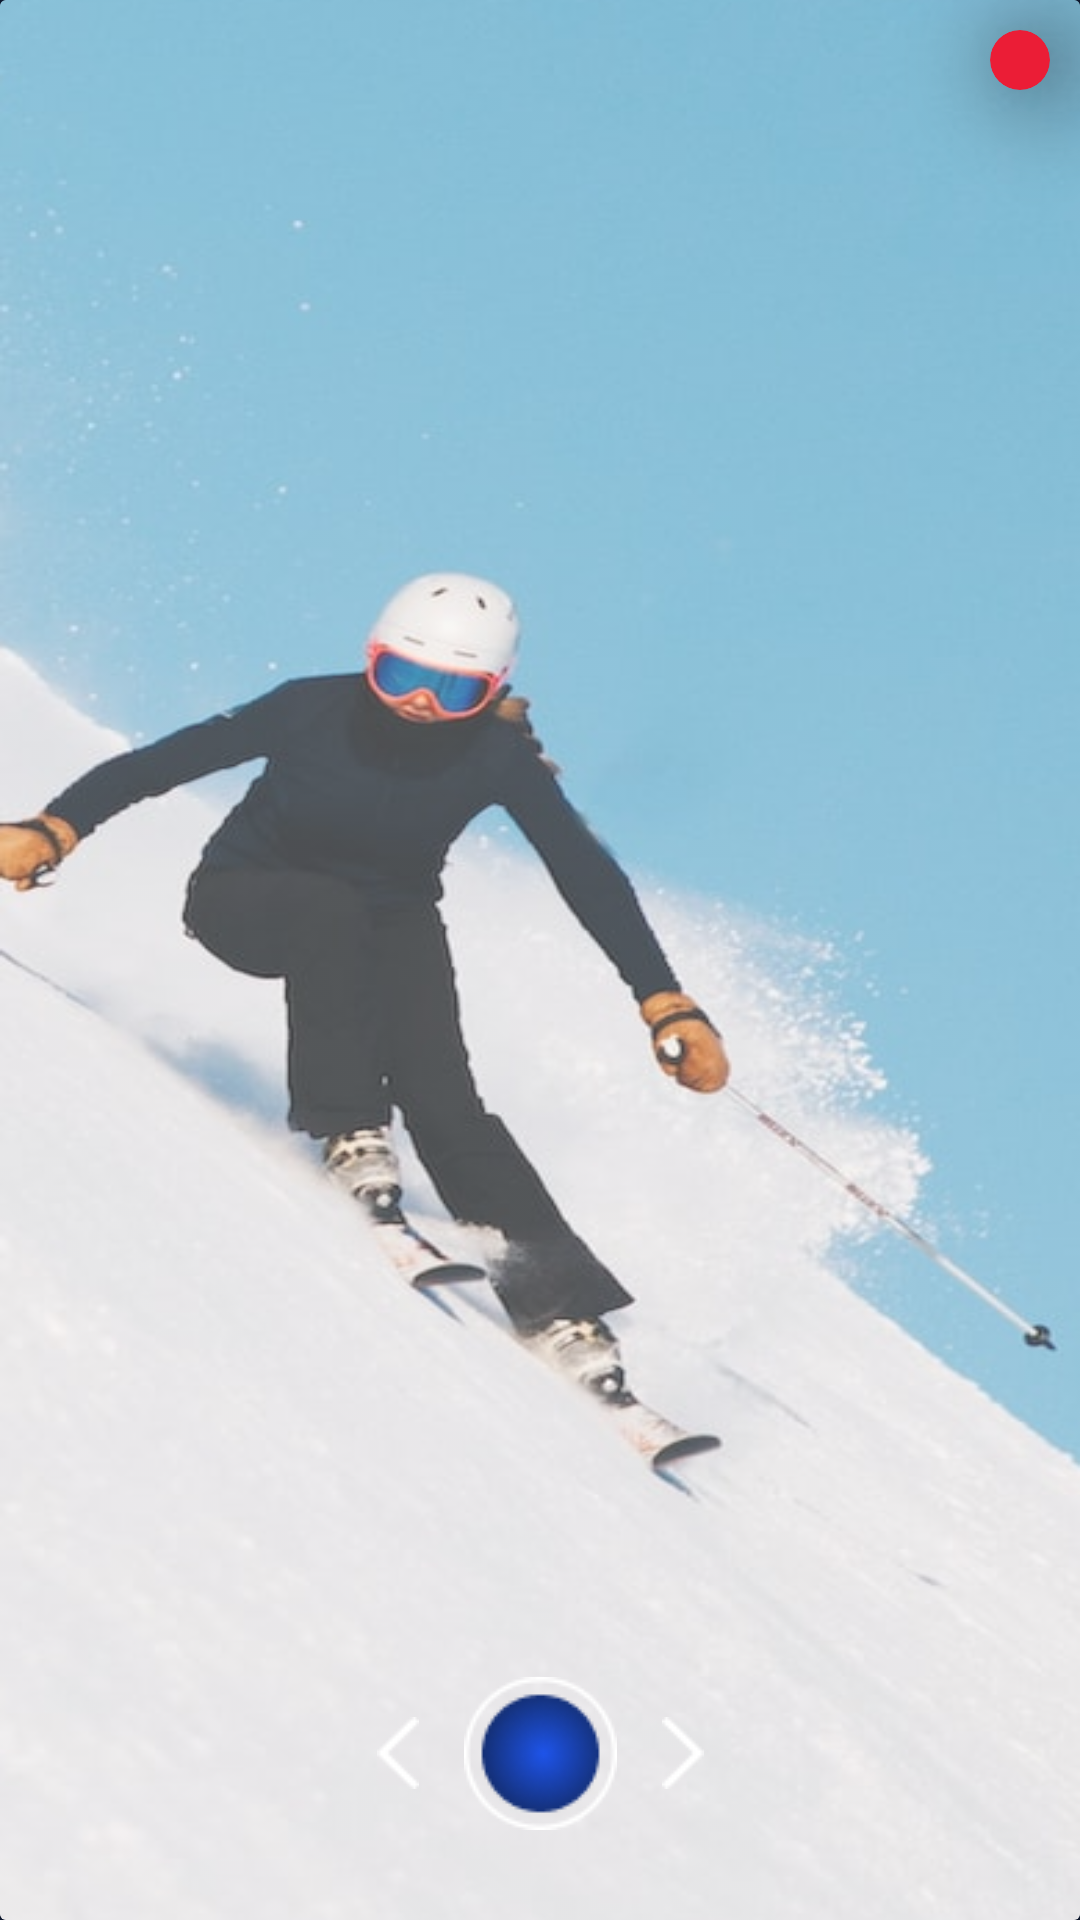

Where icons sit on this 1080*1920 app screen, as region(x1, y1, x2, y2):
analog control: region(464, 1677, 617, 1830)
control left: region(381, 1721, 415, 1785)
